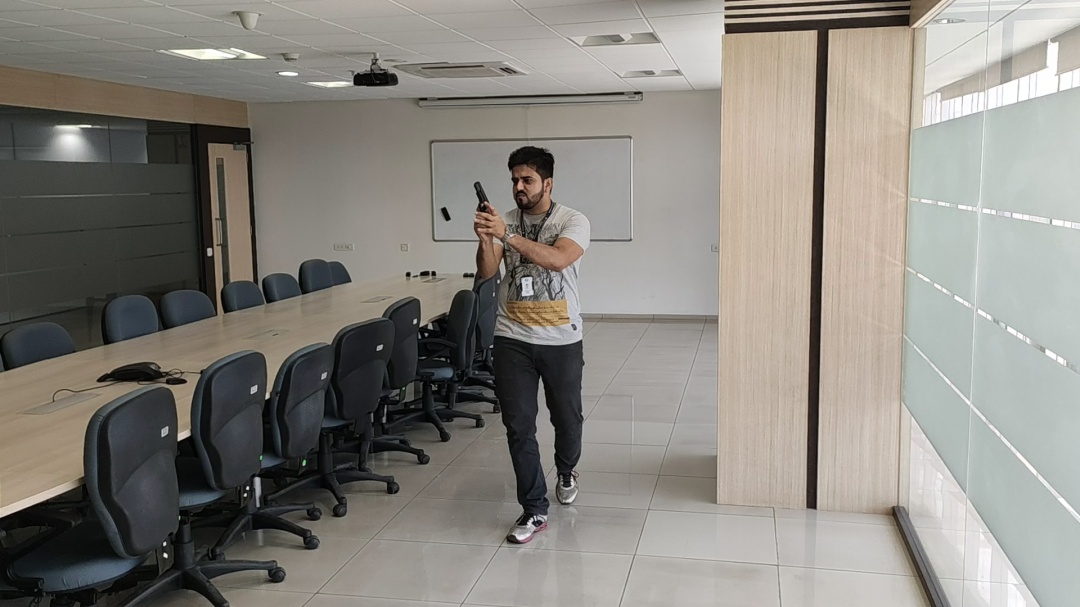gun: (461, 178, 504, 209)
